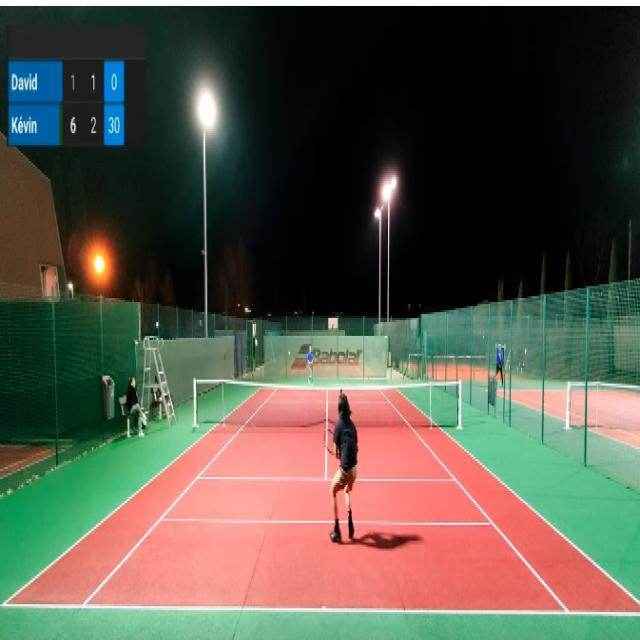ball: (288, 351, 290, 356)
